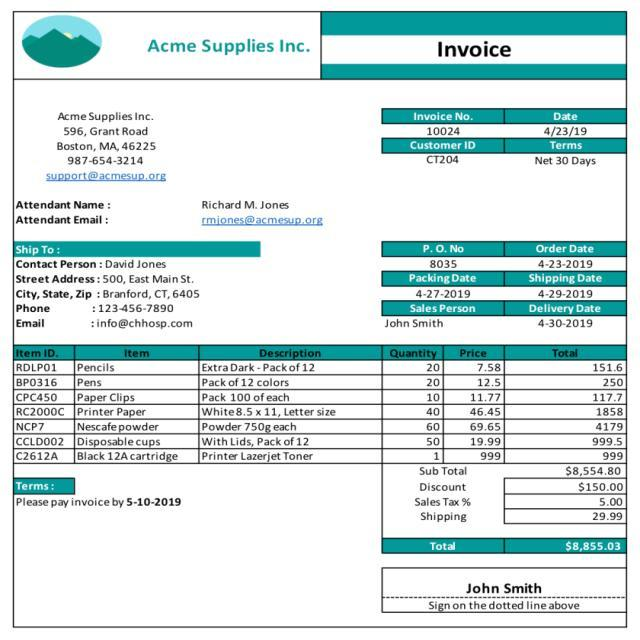ROI: (11, 346, 628, 462), (378, 464, 629, 558), (11, 241, 255, 336), (382, 105, 626, 169), (378, 569, 624, 621), (38, 107, 182, 188), (11, 200, 331, 234), (13, 474, 202, 515), (147, 35, 308, 58), (378, 304, 491, 334), (514, 275, 619, 303), (383, 303, 492, 329), (516, 305, 613, 334), (403, 241, 486, 272), (432, 35, 515, 64), (393, 275, 490, 299), (532, 242, 608, 272)
